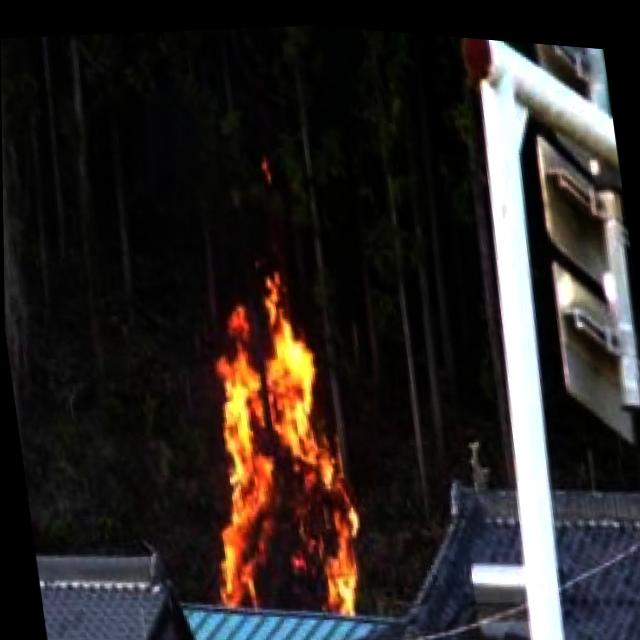Fire: (171, 237, 373, 626)
